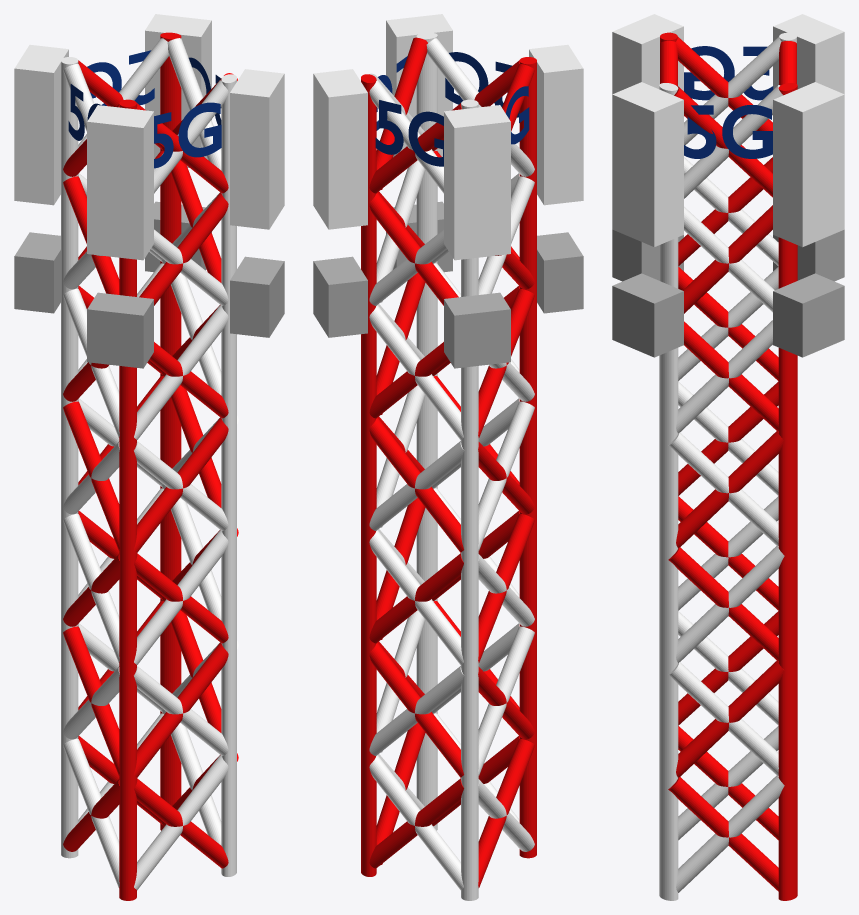
The model's file is 5G-masto.fbx.
The picture shows the model from 3 angles, left to right: view 1: azimuth 30°, elevation 25°; view 2: azimuth 150°, elevation 25°; view 3: azimuth 270°, elevation 25°; orthographic projection. The views are drawn at different scales.
Parts seen in each view (by area): view 1: Cylinder.002, Cylinder.003, Cube.003, Cylinder, Cylinder.001, Cube, Cube.001, Cube.007, Cube.004, Cube.006, Cube.002, Cylinder.006 (+43 smaller); view 2: Cylinder, Cylinder.001, Cube.001, Cylinder.002, Cylinder.003, Cube.002, Cube.003, Cube.006, Cube.005, Cube.007, Cube, Cylinder.043 (+43 smaller); view 3: Cylinder.001, Cylinder.003, Cube, Cube.002, Cube.004, Cube.005, Cube.003, Cube.001, Cylinder.031, Cylinder.029, Cylinder.024, Cylinder.022 (+30 smaller).
Boxes of the visible parts, bbox=[...] form: Cylinder.002: bbox=[119, 99, 136, 900]; Cylinder.003: bbox=[221, 74, 236, 876]; Cube.003: bbox=[87, 105, 153, 260]; Cylinder: bbox=[61, 57, 78, 858]; Cylinder.001: bbox=[160, 32, 181, 830]; Cube: bbox=[230, 69, 284, 229]; Cube.001: bbox=[14, 44, 68, 205]; Cube.007: bbox=[87, 292, 153, 368]; Cube.004: bbox=[230, 256, 284, 337]; Cube.006: bbox=[14, 232, 60, 313]; Cube.002: bbox=[145, 14, 211, 167]; Cylinder.006: bbox=[134, 643, 228, 777]; Cylinder: bbox=[461, 99, 478, 900]; Cylinder.001: bbox=[361, 74, 376, 876]; Cube.001: bbox=[444, 105, 510, 260]; Cylinder.002: bbox=[519, 57, 536, 858]; Cylinder.003: bbox=[416, 32, 437, 830]; Cube.002: bbox=[313, 69, 367, 229]; Cube.003: bbox=[529, 44, 583, 205]; Cube.006: bbox=[444, 292, 510, 368]; Cube.005: bbox=[313, 256, 367, 337]; Cube.007: bbox=[537, 232, 583, 313]; Cube: bbox=[386, 14, 452, 157]; Cylinder.043: bbox=[369, 643, 463, 777]; Cylinder.001: bbox=[778, 83, 797, 900]; Cylinder.003: bbox=[659, 83, 678, 900]; Cube: bbox=[612, 82, 683, 247]; Cube.002: bbox=[773, 82, 844, 247]; Cube.004: bbox=[612, 273, 683, 357]; Cube.005: bbox=[773, 273, 844, 357]; Cube.003: bbox=[612, 14, 683, 94]; Cube.001: bbox=[773, 14, 844, 94]; Cylinder.031: bbox=[676, 775, 784, 892]; Cylinder.029: bbox=[676, 660, 784, 777]; Cylinder.024: bbox=[676, 431, 784, 547]; Cylinder.022: bbox=[676, 546, 784, 662].
Size of the model in its own units: 390 by 1502 by 390.
